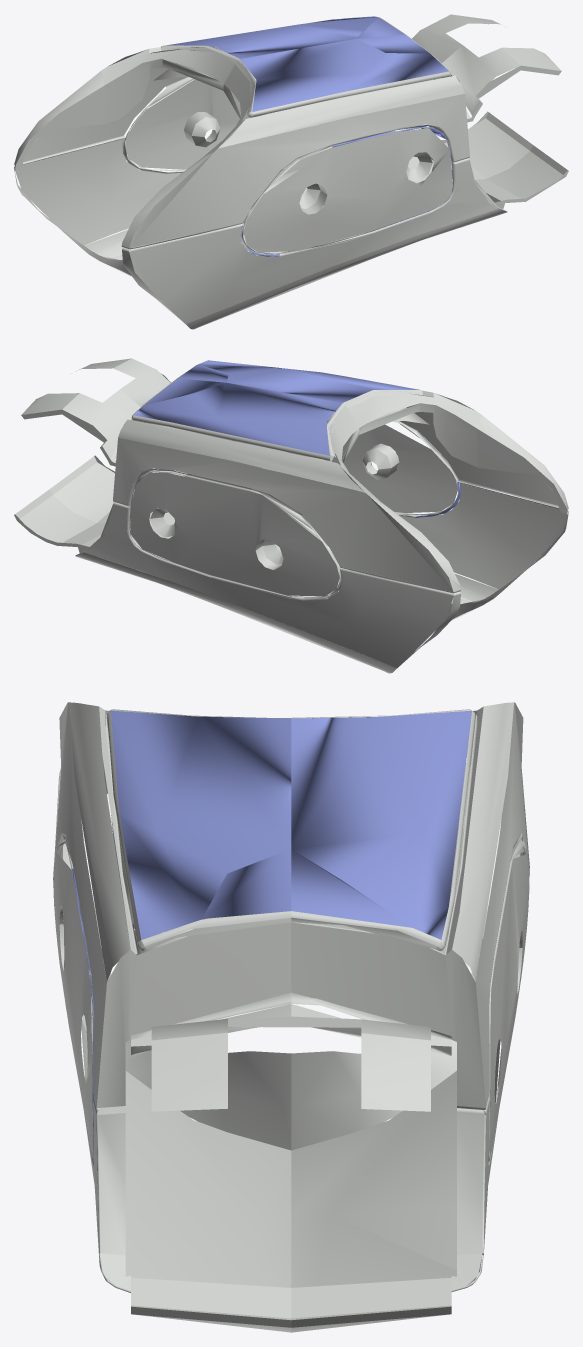
File: fingerPhaProx.obj
The picture shows the model from 3 angles, top to bottom: view 1: azimuth 30°, elevation 25°; view 2: azimuth 150°, elevation 25°; view 3: azimuth 270°, elevation 25°; orthographic projection. The views are drawn at different scales.
Parts seen in each view (by area): view 1: unnamed_object1_unnamed_object1_auv, unnamed_object1_blue; view 2: unnamed_object1_unnamed_object1_auv, unnamed_object1_blue; view 3: unnamed_object1_unnamed_object1_auv, unnamed_object1_blue.
Part boxes in pixels (x1,y1,x2,y2): unnamed_object1_unnamed_object1_auv: (14, 14, 568, 329); unnamed_object1_blue: (167, 16, 453, 256); unnamed_object1_unnamed_object1_auv: (14, 358, 568, 673); unnamed_object1_blue: (134, 360, 460, 517); unnamed_object1_unnamed_object1_auv: (53, 702, 529, 1332); unnamed_object1_blue: (53, 710, 471, 1161).
Bounding box in the file's own units: 0.083 × 0.0411 × 0.0368.
